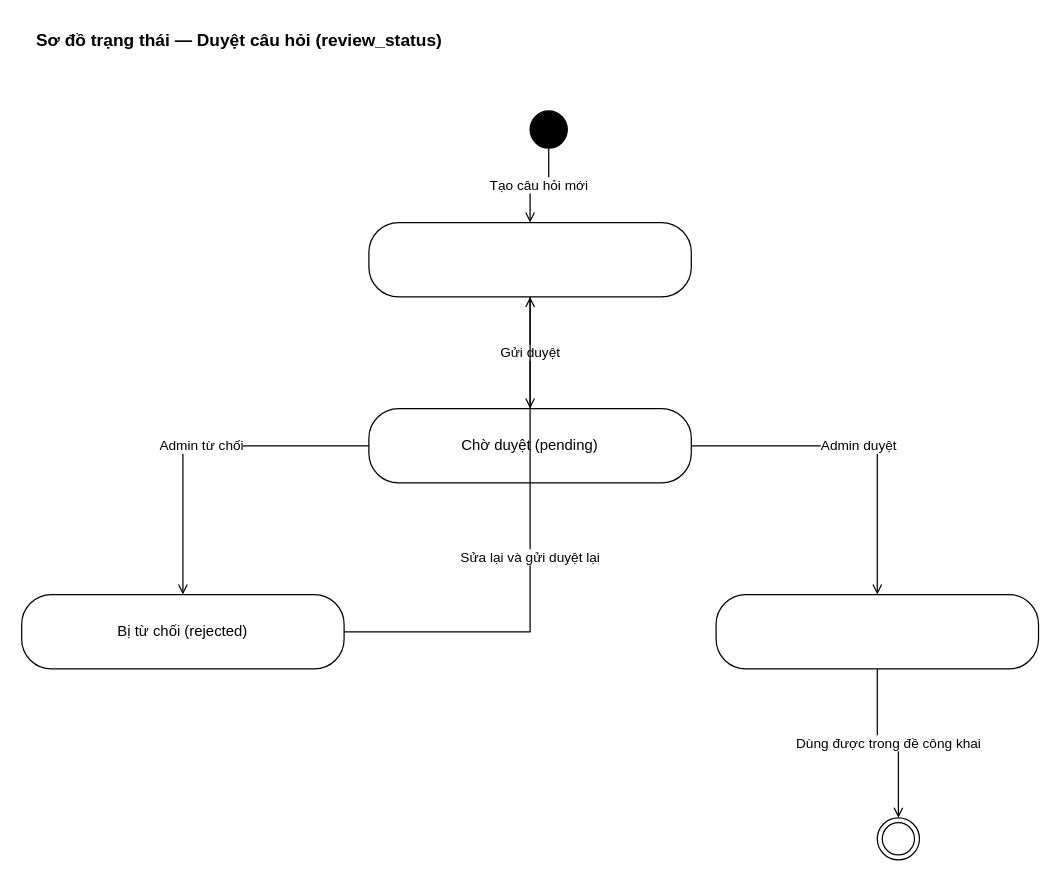
Image size: 1060x882. Some labels were removed from this diagram. Here are the shapes that lost their labels. From the top down, the box of each, then its label:
(368, 221, 691, 297): Nháp (draft)
(715, 593, 1038, 669): Đã duyệt (approved)
